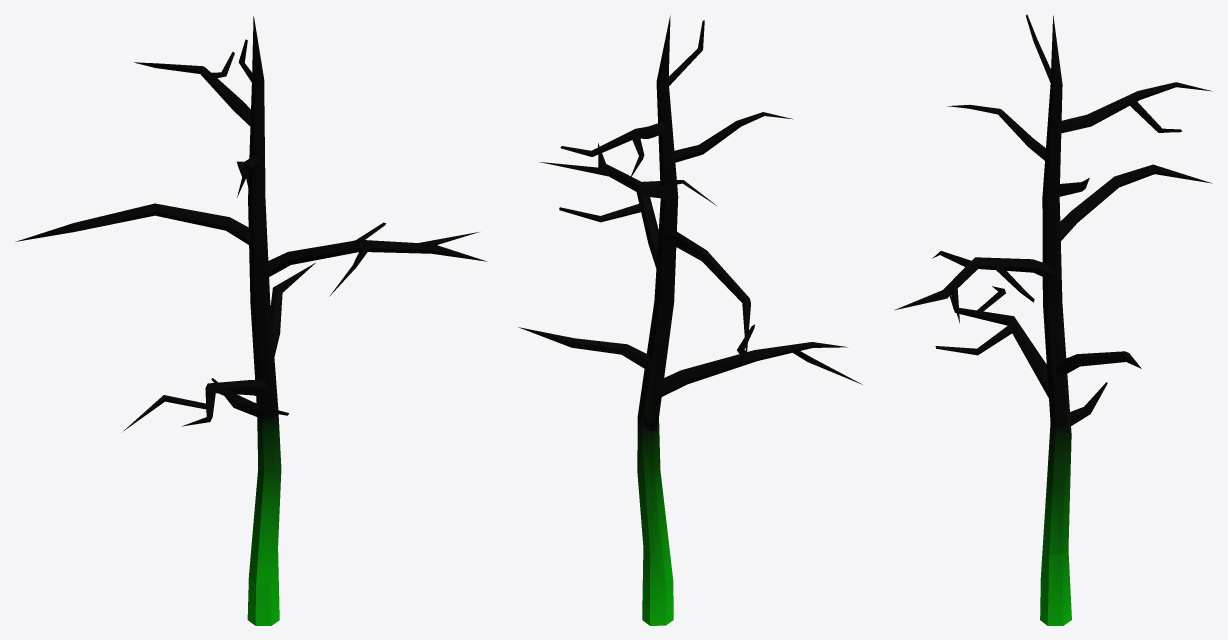
The model's file is SM_Collision_ChinaPina02.fbx.
The picture shows the model from 3 angles, left to right: view 1: azimuth 30°, elevation 25°; view 2: azimuth 150°, elevation 25°; view 3: azimuth 270°, elevation 25°; orthographic projection.
Visible parts, largest first — view 1: SM_Collision_ChinaPina02; view 2: SM_Collision_ChinaPina02; view 3: SM_Collision_ChinaPina02.
Boxes of the visible parts, x1,y1,x2,y2 form: SM_Collision_ChinaPina02: (15, 16, 486, 625); SM_Collision_ChinaPina02: (518, 14, 862, 625); SM_Collision_ChinaPina02: (894, 14, 1212, 625).
Bounding box in the file's own units: 897 × 1519 × 734.
